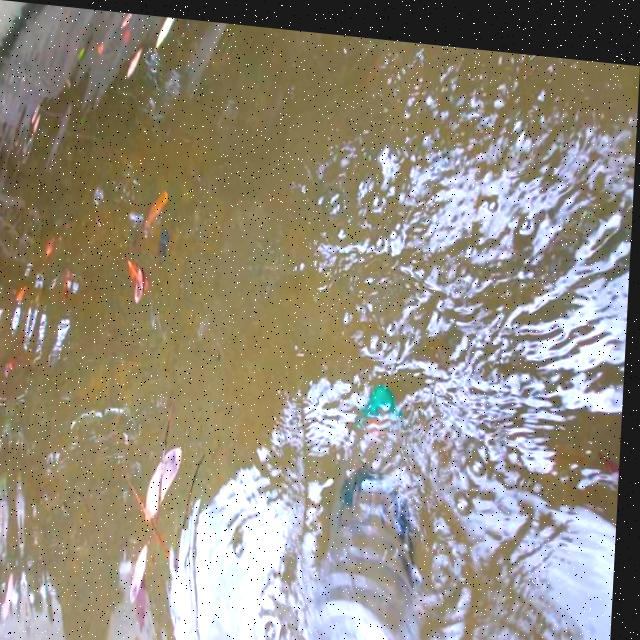leaf: (138, 435, 201, 535), (124, 540, 182, 634), (129, 155, 181, 238), (593, 419, 625, 527), (128, 237, 163, 317)
waterbottle: (313, 361, 442, 640)
